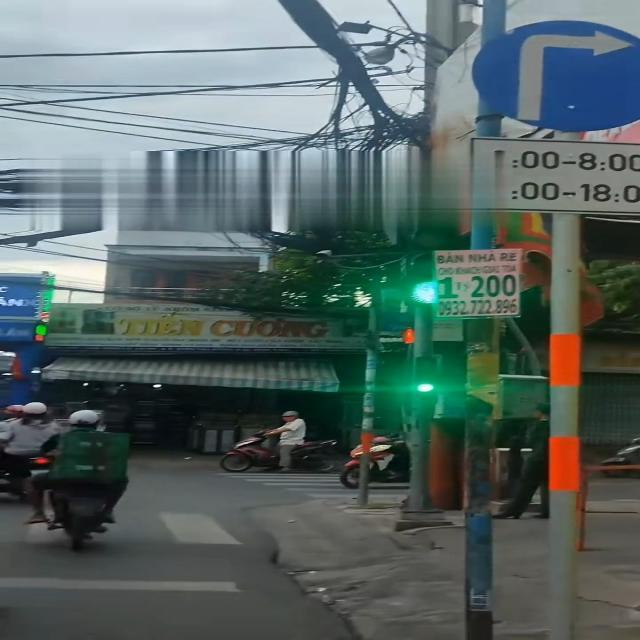301d-cac-xe-chi-duoc-re-phai-2: (474, 20, 640, 136)
